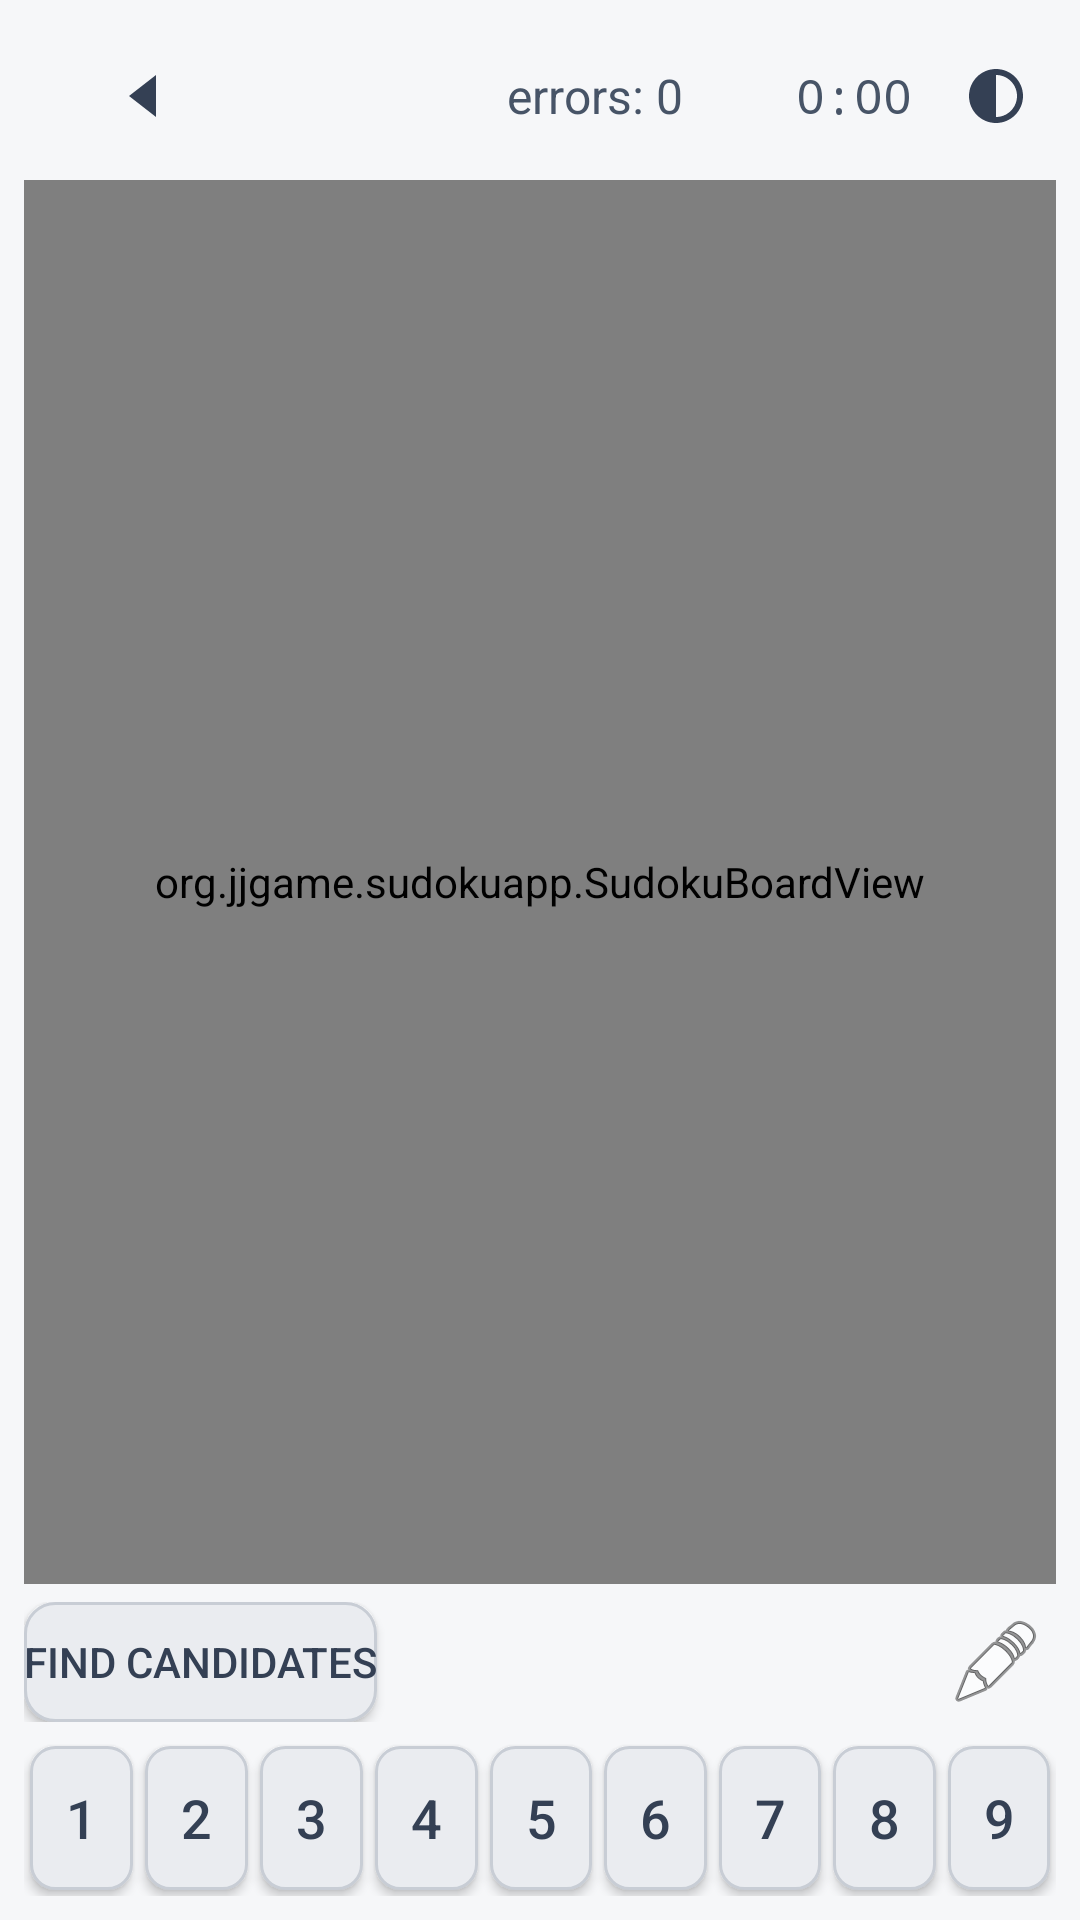

Icons on this 1080×1920 Android screen, each with the point to tap as (x=x, y=y):
Back: (x=142, y=96)
Toggle candidate editing: (x=995, y=1661)
Toggle light/dark theme: (x=996, y=96)
